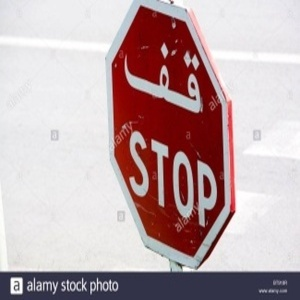stop: (106, 2, 233, 267)
